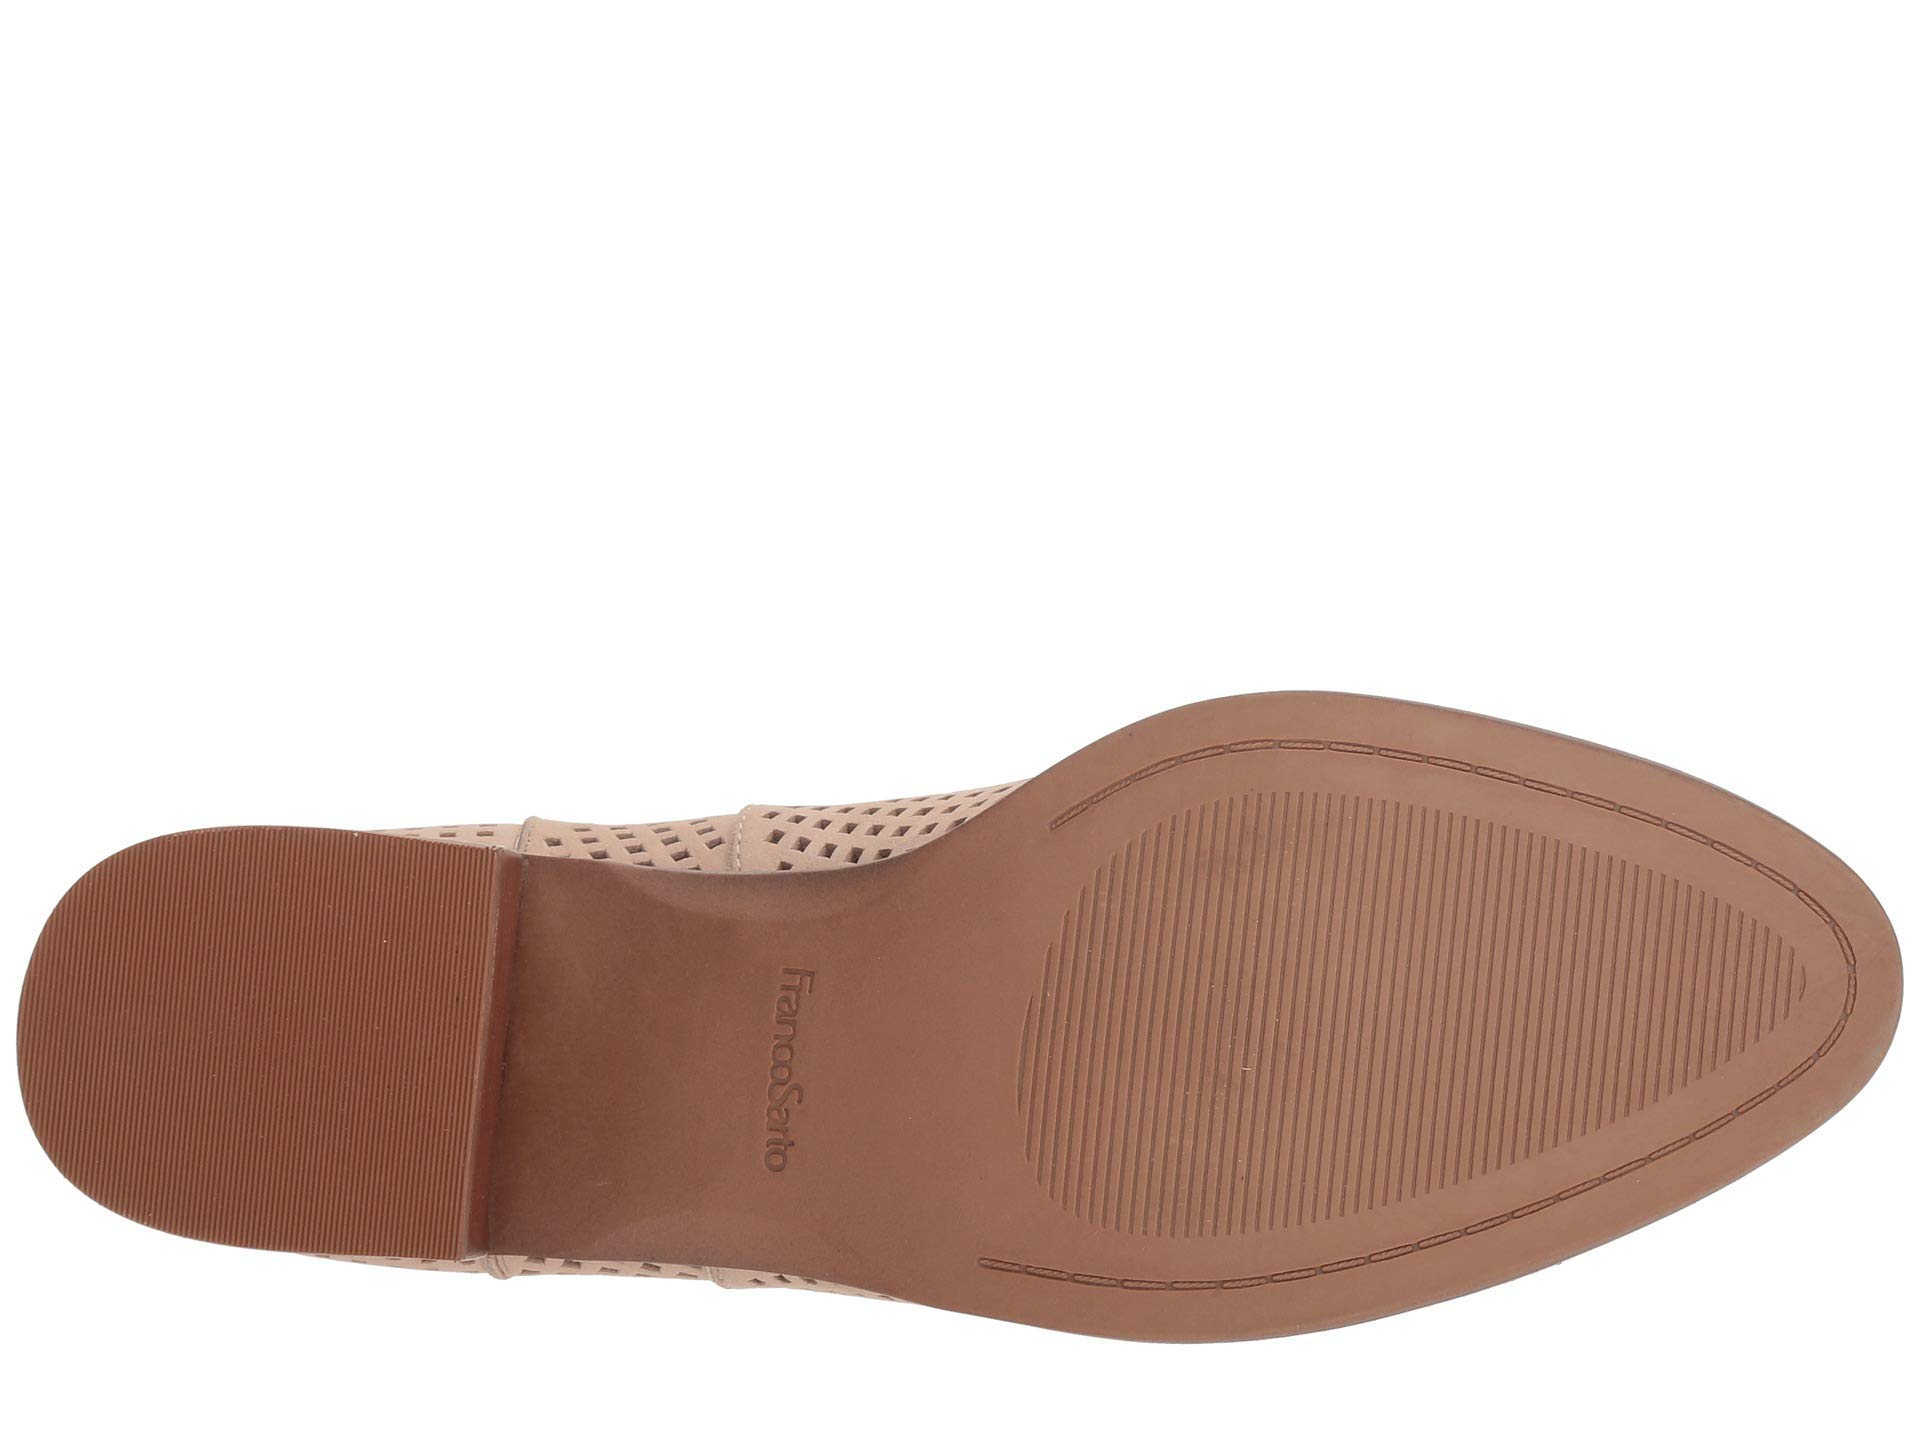line: (1149, 839, 1457, 1147), (163, 902, 435, 1178)
